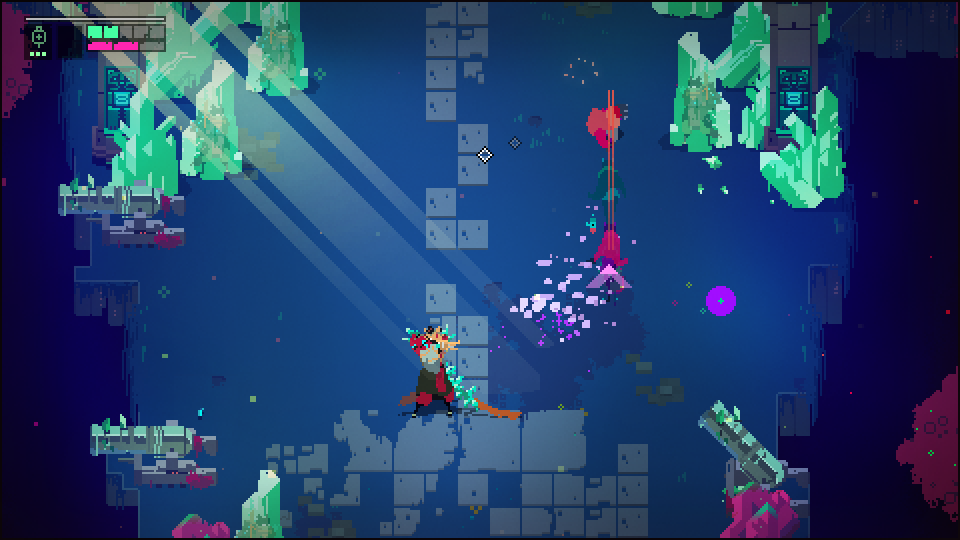hanged_man: (400, 319, 489, 428)
hanged_shot: (702, 283, 739, 320)
player: (584, 103, 631, 148)
